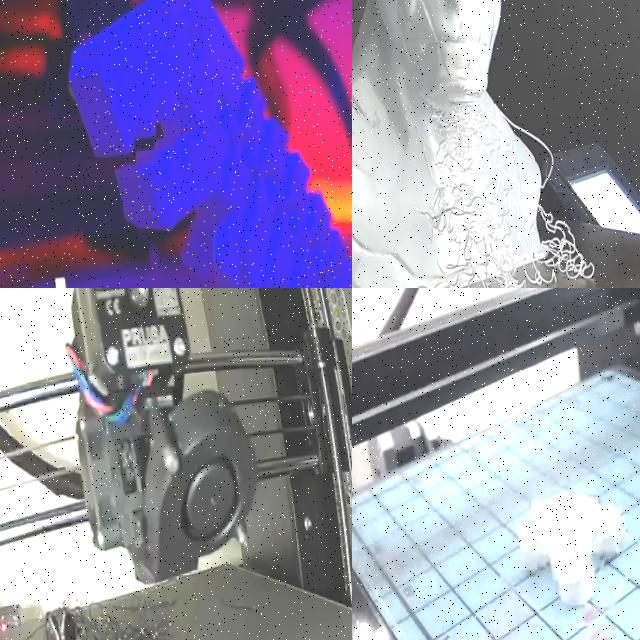spaghetti: (368, 86, 601, 288), (58, 564, 180, 640)
